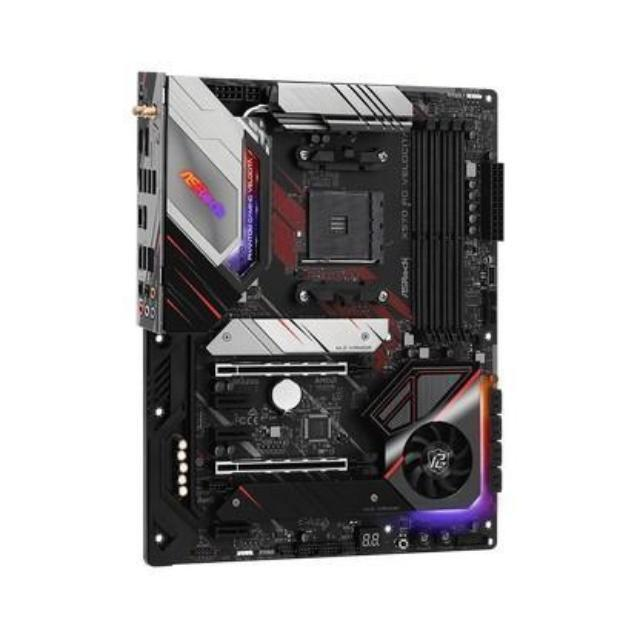Mainboard: (130, 66, 504, 568)
